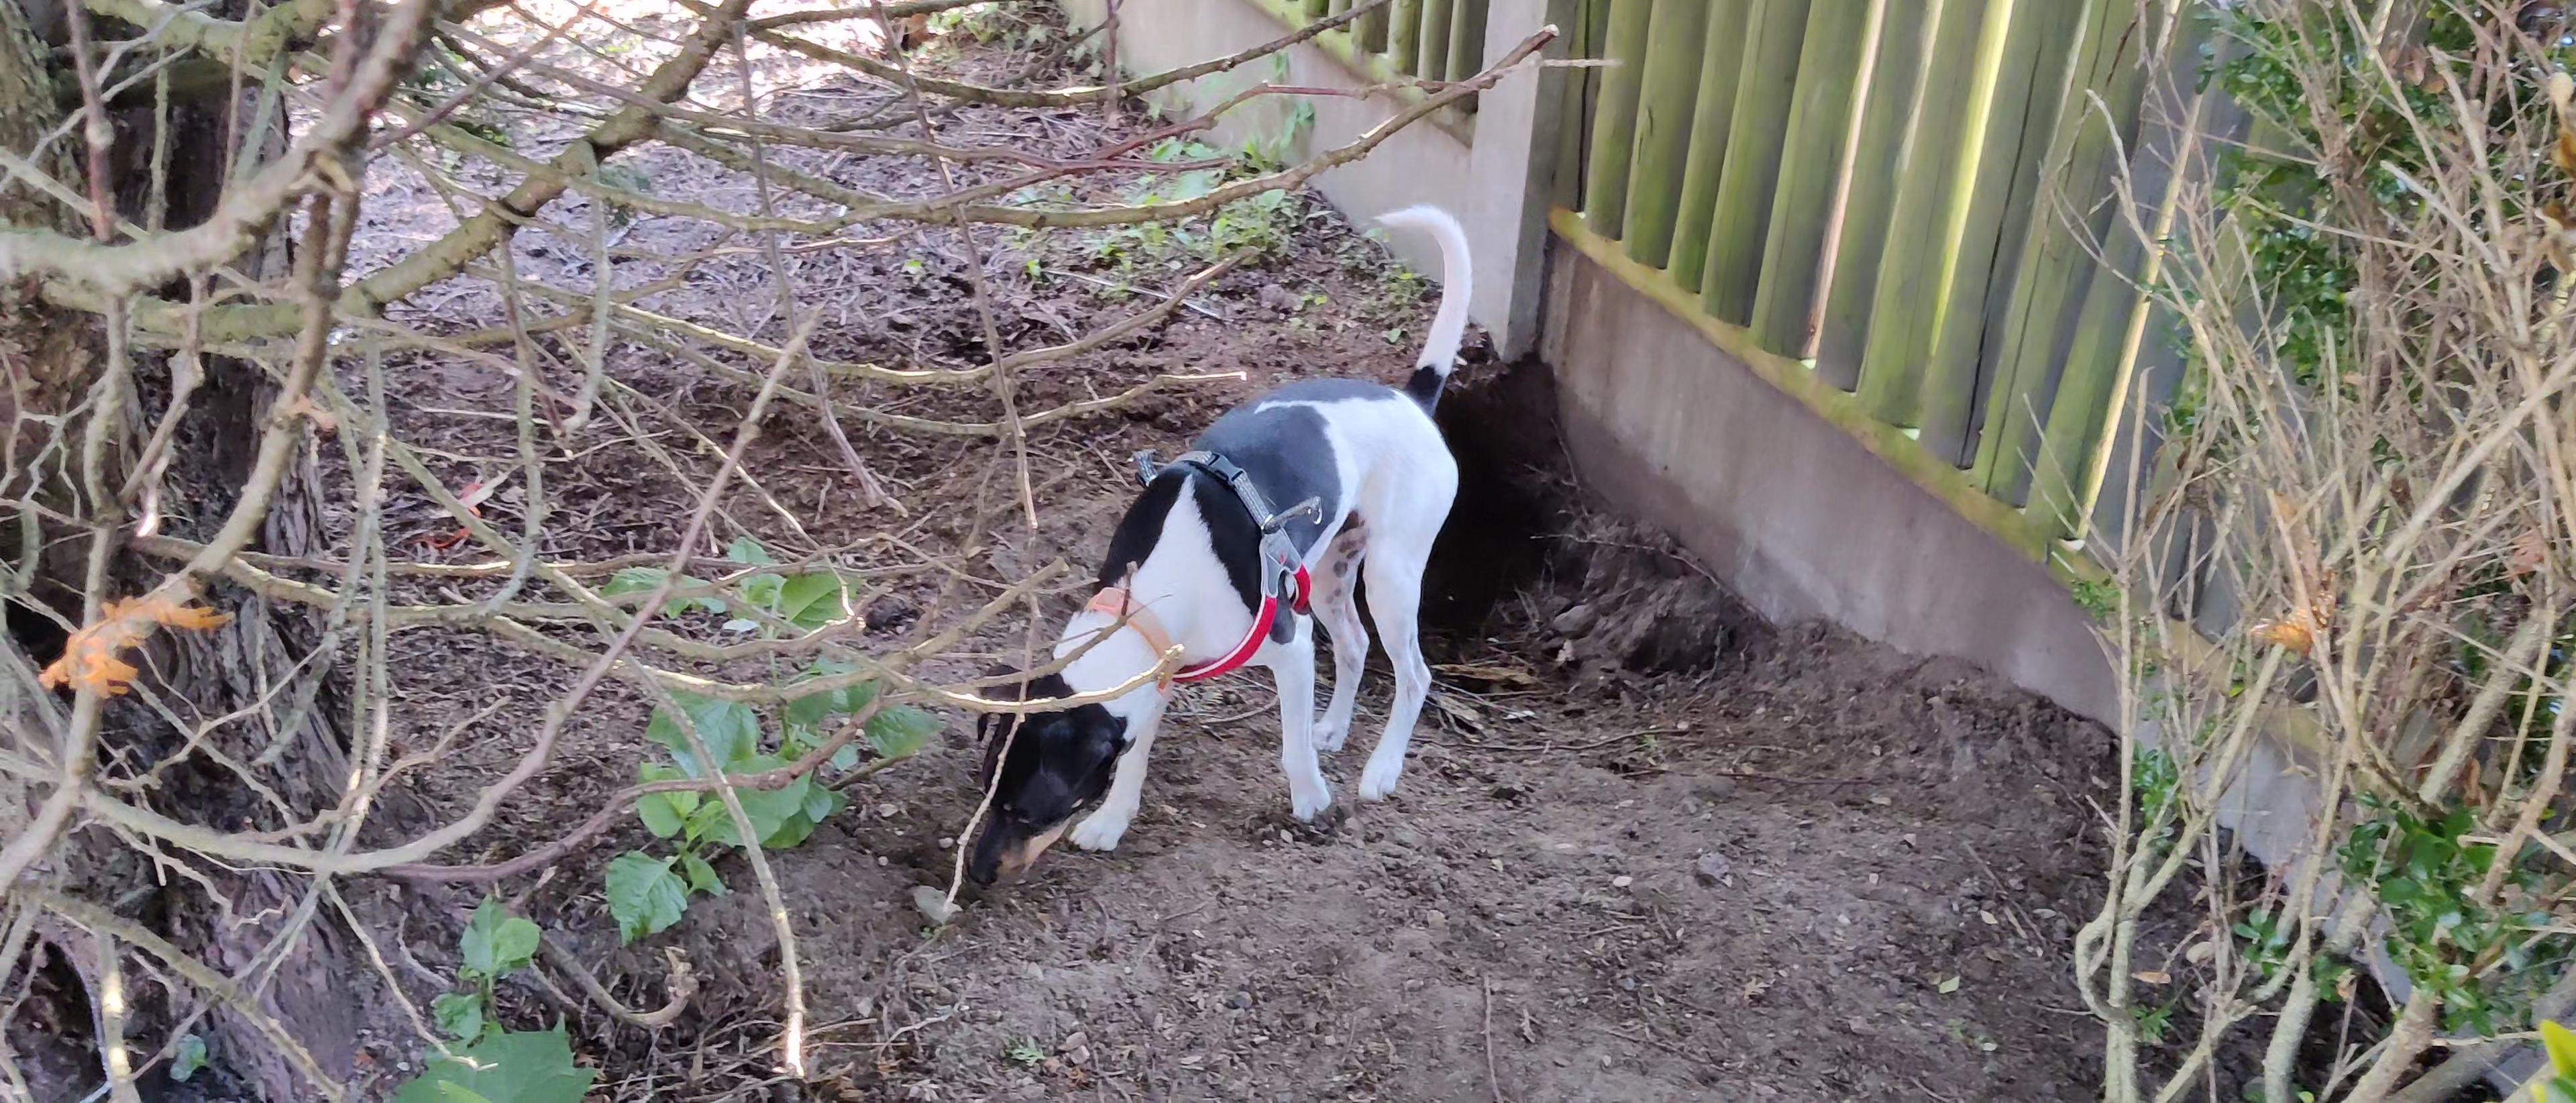Dog: (940, 191, 1490, 912)
